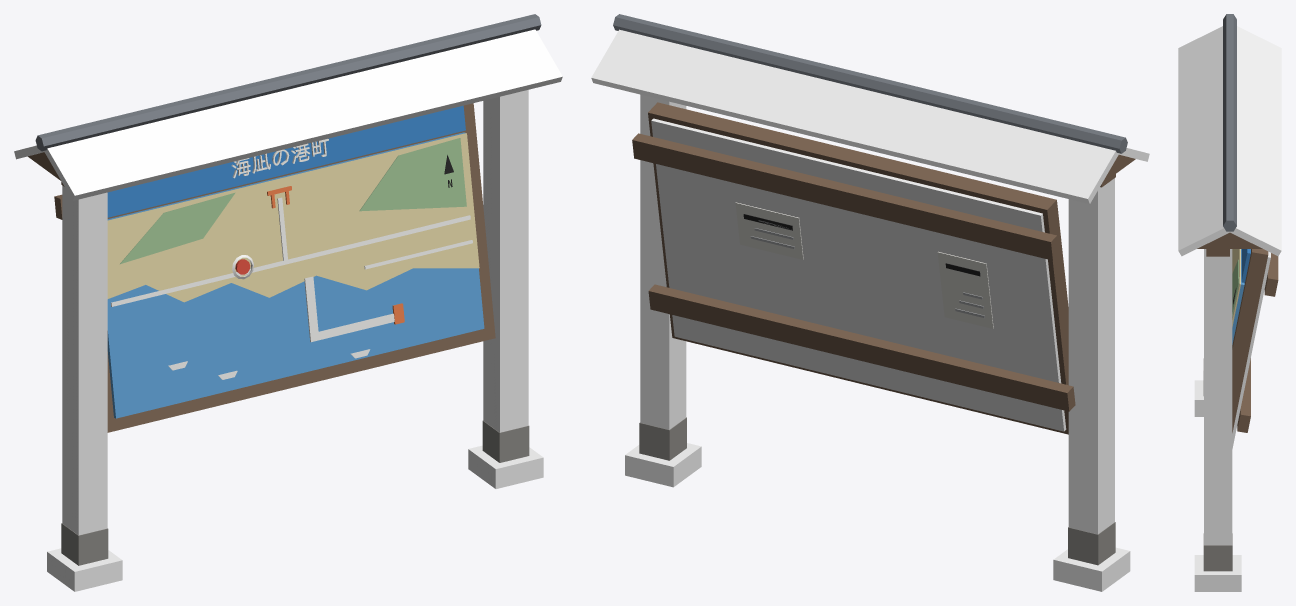
The model's file is info_board.glb.
The picture shows the model from 3 angles, left to right: view 1: azimuth 30°, elevation 25°; view 2: azimuth 150°, elevation 25°; view 3: azimuth 270°, elevation 25°; orthographic projection. The views are drawn at different scales.
Visible parts, largest first — view 1: info_board_body; view 2: info_board_body; view 3: info_board_body.
Boxes of the visible parts, x1,y1,x2,y2 form: info_board_body: (14,14,562,591); info_board_body: (591,14,1149,591); info_board_body: (1178,14,1281,591).
Size of what is drawn, in the model's own units: 2.08 by 1.77 by 0.44.
